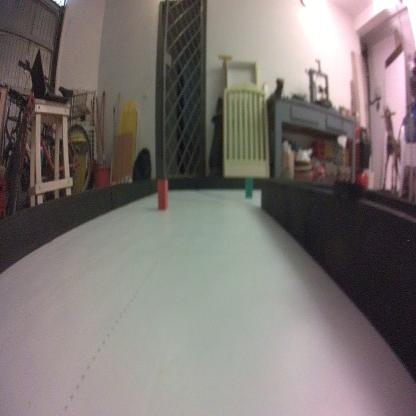green: (242, 178, 254, 200)
red: (156, 176, 170, 210)
